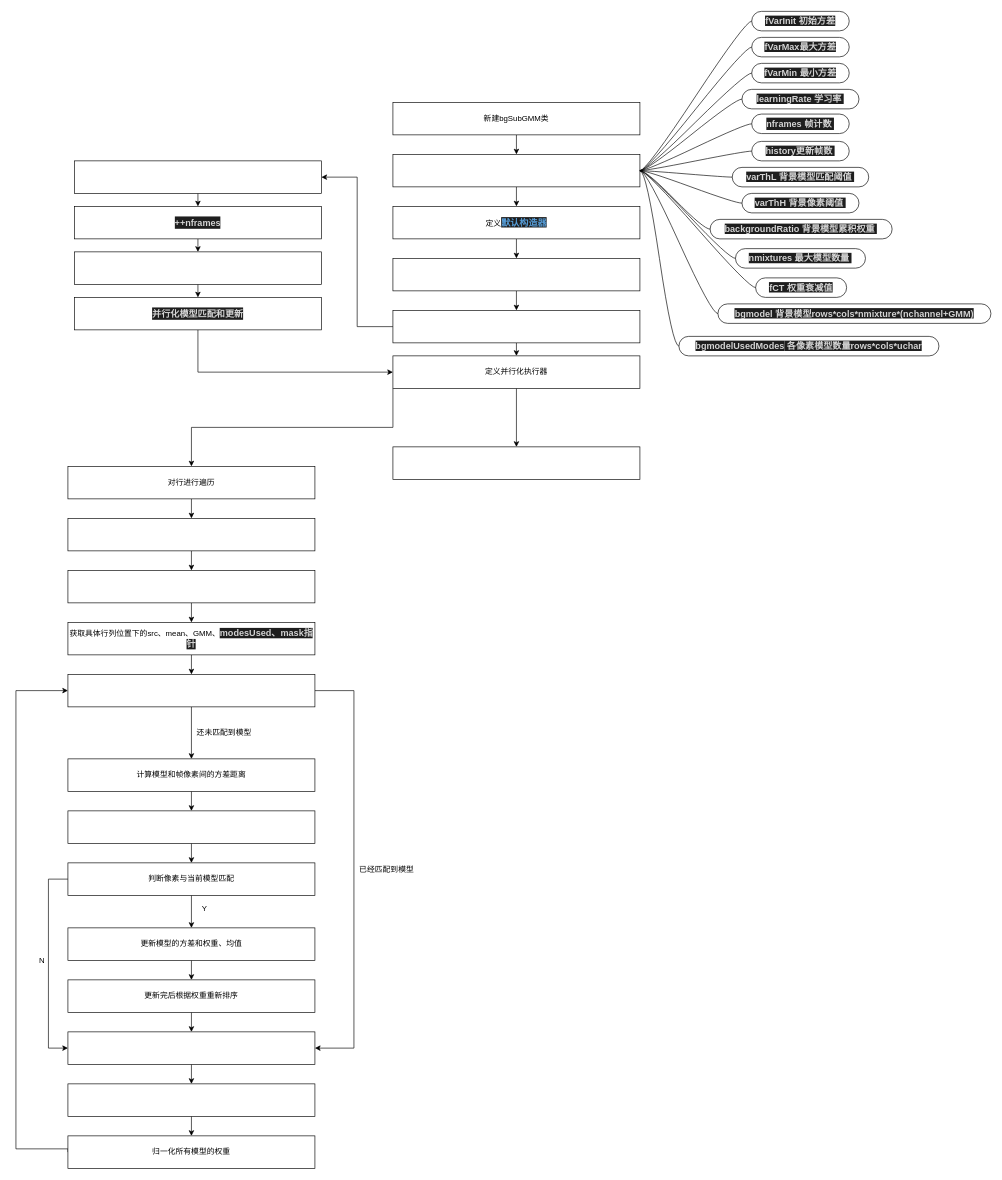
The diagram is 1002 pixels wide and 1180 high, and some of its shapes have lost their labels. The box of each missing label's shape, as (x1, y1, x2, y2) in pixels:
删除不重要的模型: (67, 1031, 315, 1064)
判断像素是否属于背景: (67, 810, 315, 843)
定义 protected成员变量: (392, 154, 640, 187)
定义 用户构造器: (392, 258, 640, 291)
定义apply训练器: (392, 310, 640, 343)
对col遍历: (67, 570, 315, 603)
对已经排序的模型进行迭代: (67, 674, 315, 707)
权重衰减: (67, 1083, 315, 1116)
获取src、mean、GMM、 modesUsed、mask的行首指针: (67, 518, 315, 551)
计算当前帧的学习率 learningRate: (74, 251, 321, 284)
输入单通道或三通道frame，并构建输入输出Mat: (74, 160, 321, 193)
返回前景掩码图像: (392, 446, 640, 479)
